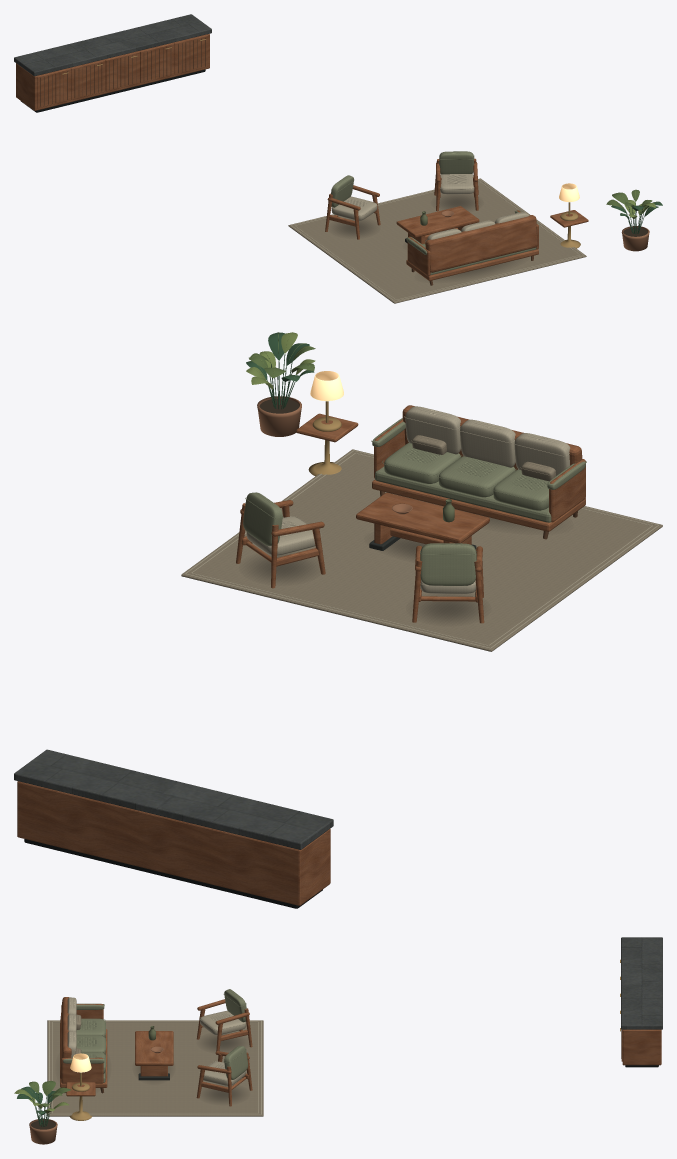
File: music.glb
3 views of the same model, one above another, from view 1: azimuth 30°, elevation 25°; view 2: azimuth 150°, elevation 25°; view 3: azimuth 270°, elevation 25° (orthographic). The views are drawn at different scales.
Visible parts, largest first — view 1: music | M03 | Oiled American walnut, music | M08 | Undyed flatweave, music | M05 | Honed slate, music | M08 | Flax hopsack, music | M08 | Moss boucle, music | Mortise endgrain, music | Soft contact occlusion, music | Stacked ceramic clay, music | M06 | Lacquered graphite, music | M08 | Leaf 0; view 2: music | M08 | Undyed flatweave, music | M03 | Oiled American walnut, music | M08 | Moss boucle, music | M05 | Honed slate, music | M08 | Flax hopsack, music | Soft contact occlusion, music | M08 | Leaf 0, music | Stacked ceramic clay, music | M06 | Lacquered graphite, music | M08 | Leaf 2, music | Patinated brass, music | Cotton lampshade; view 3: music | M08 | Undyed flatweave, music | M03 | Oiled American walnut, music | M05 | Honed slate, music | M08 | Flax hopsack, music | M08 | Moss boucle, music | Soft contact occlusion, music | Stacked ceramic clay, music | M08 | Leaf 0, music | Patinated brass, music | M08 | Leaf 1, music | Cotton lampshade.
Boxes of the visible parts, bbox=[...] form: music | M03 | Oiled American walnut: bbox=[16, 34, 588, 280]; music | M08 | Undyed flatweave: bbox=[288, 178, 586, 303]; music | M05 | Honed slate: bbox=[14, 14, 211, 76]; music | M08 | Flax hopsack: bbox=[290, 173, 583, 301]; music | M08 | Moss boucle: bbox=[331, 151, 538, 275]; music | Mortise endgrain: bbox=[40, 37, 533, 285]; music | Soft contact occlusion: bbox=[335, 195, 513, 277]; music | Stacked ceramic clay: bbox=[441, 210, 649, 251]; music | M06 | Lacquered graphite: bbox=[21, 69, 205, 112]; music | M08 | Leaf 0: bbox=[611, 201, 662, 234]; music | M08 | Undyed flatweave: bbox=[181, 435, 662, 651]; music | M03 | Oiled American walnut: bbox=[17, 405, 585, 905]; music | M08 | Moss boucle: bbox=[243, 418, 586, 585]; music | M05 | Honed slate: bbox=[14, 749, 333, 849]; music | M08 | Flax hopsack: bbox=[185, 406, 659, 648]; music | Soft contact occlusion: bbox=[251, 518, 524, 620]; music | M08 | Leaf 0: bbox=[246, 332, 314, 409]; music | Stacked ceramic clay: bbox=[257, 396, 412, 514]; music | M06 | Lacquered graphite: bbox=[24, 839, 322, 908]; music | M08 | Leaf 2: bbox=[246, 332, 315, 389]; music | Patinated brass: bbox=[308, 401, 341, 476]; music | Cotton lampshade: bbox=[310, 371, 343, 400]; music | M08 | Undyed flatweave: bbox=[47, 1014, 263, 1116]; music | M03 | Oiled American walnut: bbox=[60, 997, 661, 1106]; music | M05 | Honed slate: bbox=[621, 937, 662, 1029]; music | M08 | Flax hopsack: bbox=[49, 997, 261, 1114]; music | M08 | Moss boucle: bbox=[63, 989, 248, 1082]; music | Soft contact occlusion: bbox=[139, 1035, 242, 1101]; music | Stacked ceramic clay: bbox=[29, 1046, 163, 1144]; music | M08 | Leaf 0: bbox=[17, 1086, 55, 1126]; music | Patinated brass: bbox=[69, 959, 620, 1120]; music | M08 | Leaf 1: bbox=[29, 1081, 71, 1107]; music | Cotton lampshade: bbox=[70, 1053, 91, 1072].
Bounding box in the file's own units: 7.24 × 1.2 × 11.76.
Materials: 18 (6 with a texture image).
